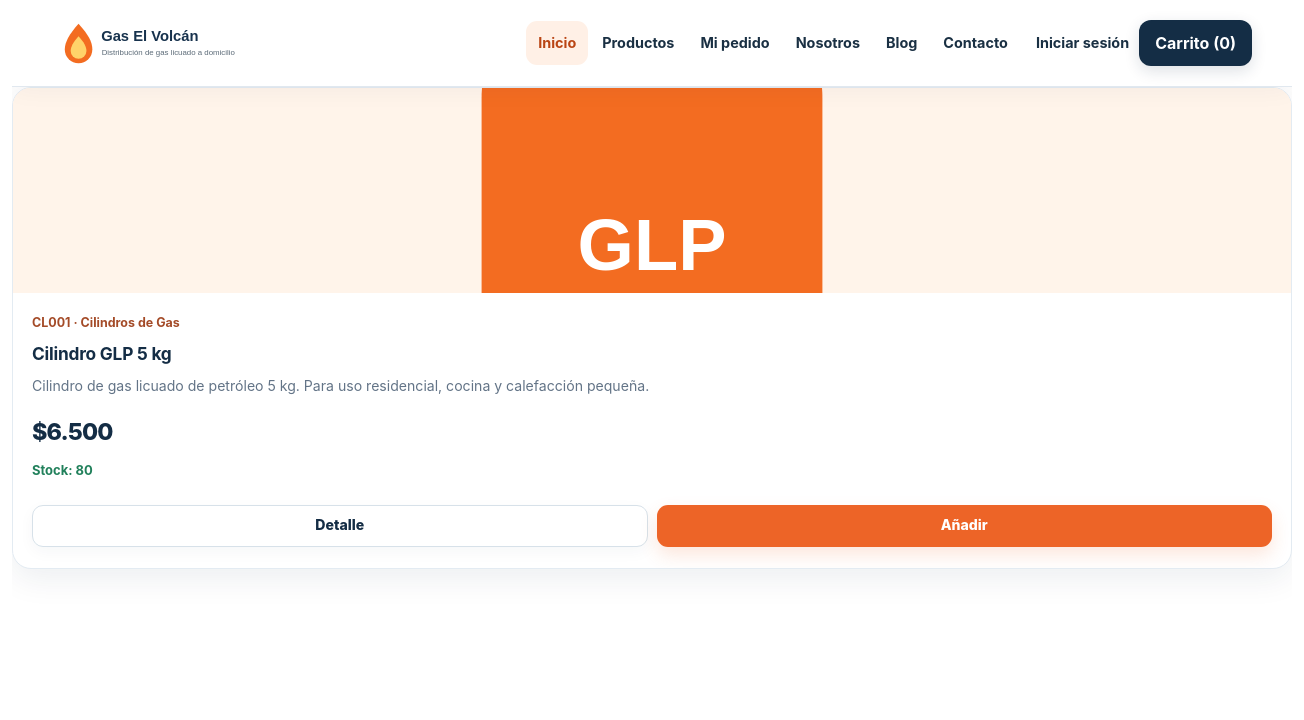
Test case: Carrito › vacía el carrito con el botón correspondiente
The image size is (1304, 720).
Step 1. Click the button "Añadir" → x=964, y=526, box [656,504,1272,546]
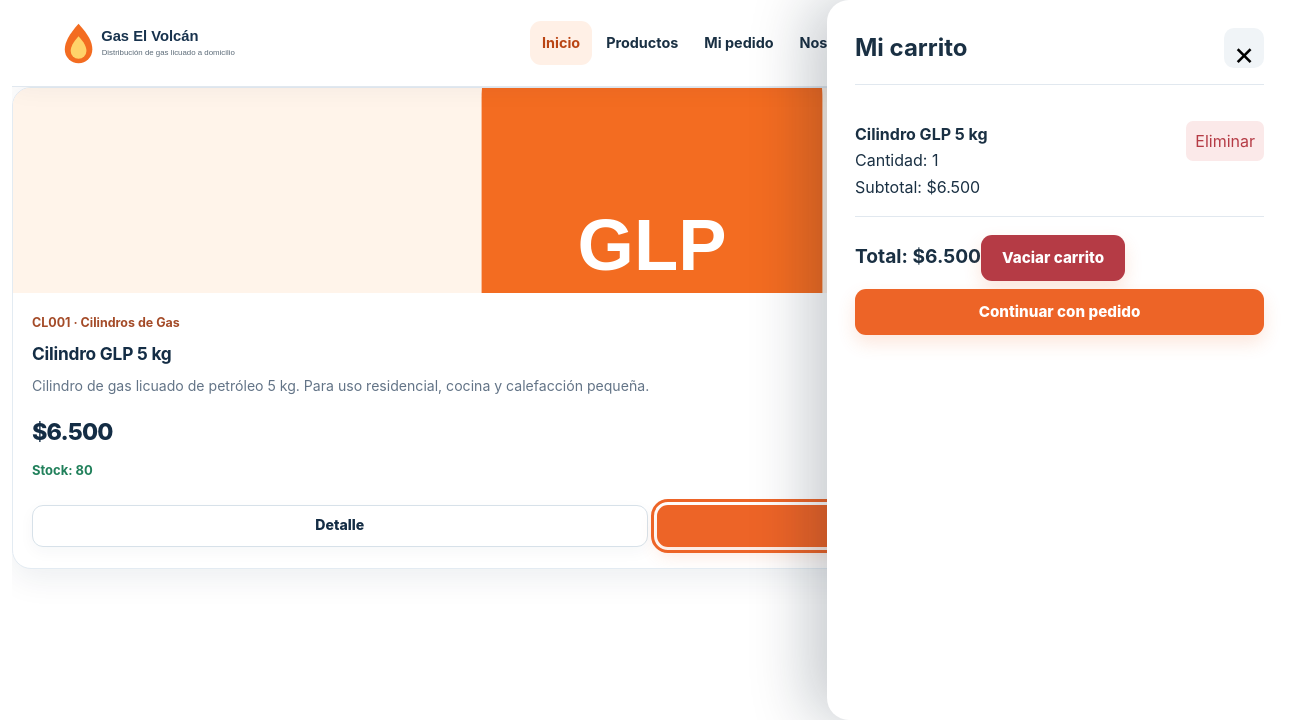
Step 2. Click the button "Vaciar carrito" → x=1053, y=258, box [981,235,1125,281]
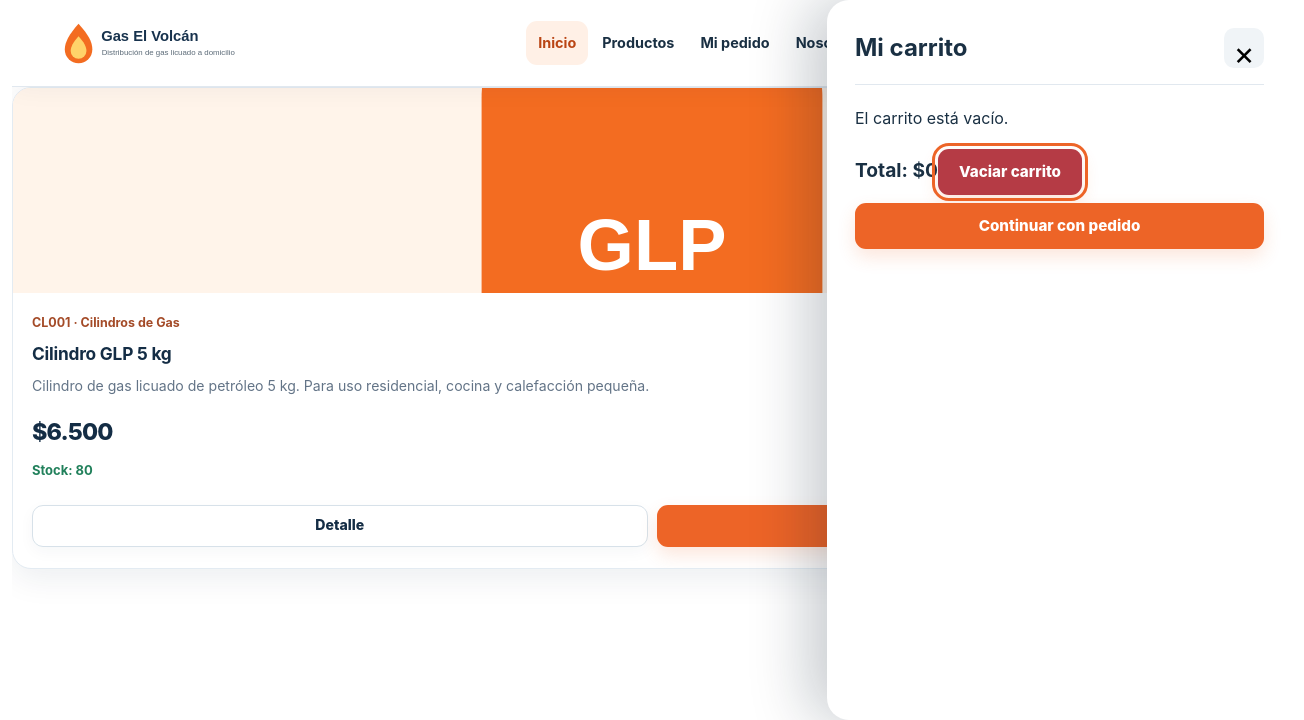
expect the text "El carrito está vacío." is shown: met, box [855,108,1008,128]
expect the text with id "total-carrito" reads "0": met, box [925,158,938,182]
